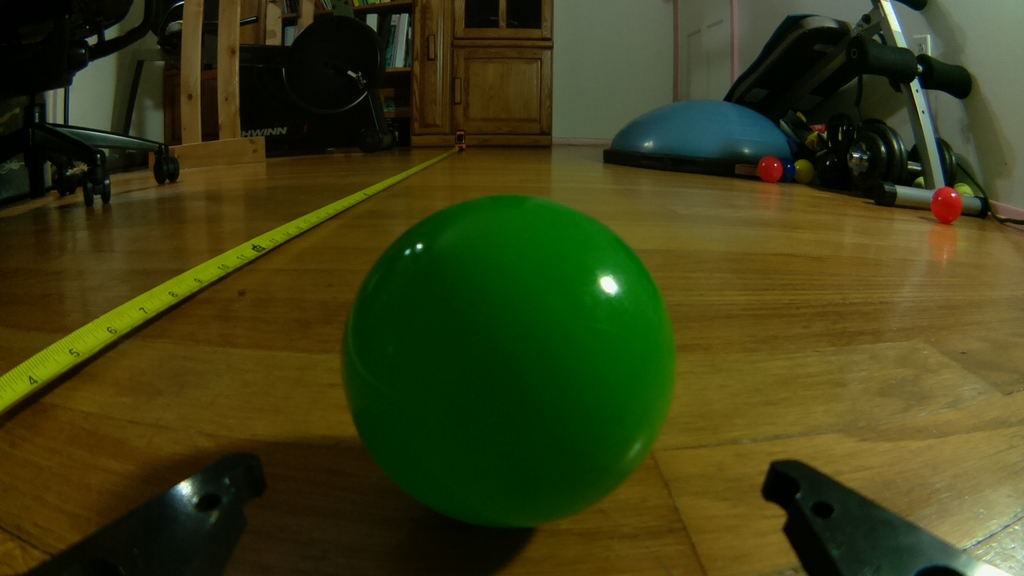ball: (333, 189, 684, 529)
